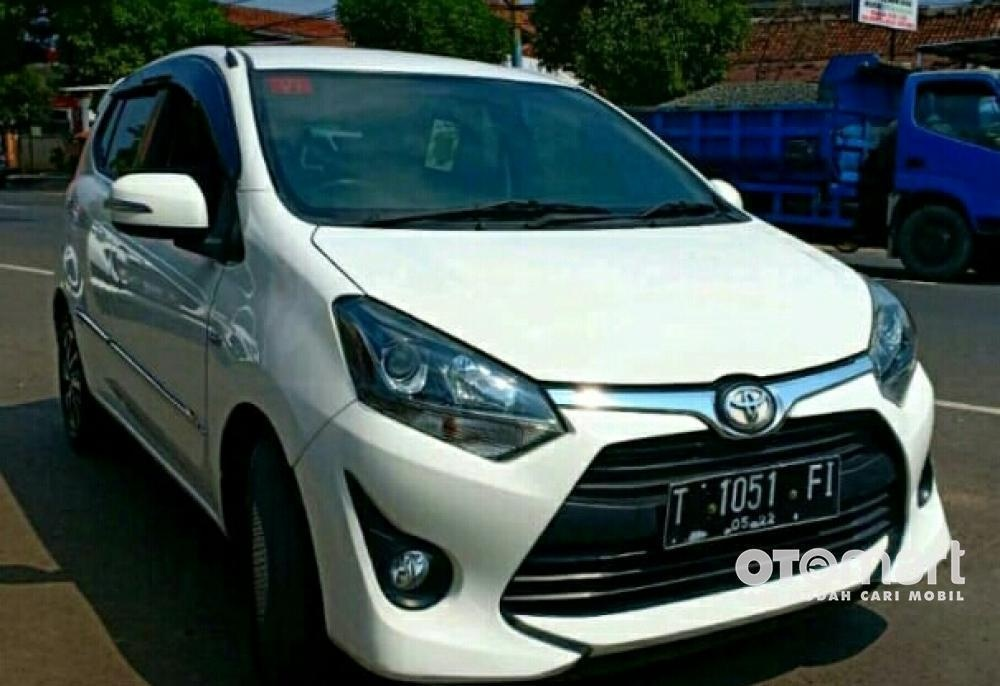plate: (678, 450, 830, 538)
